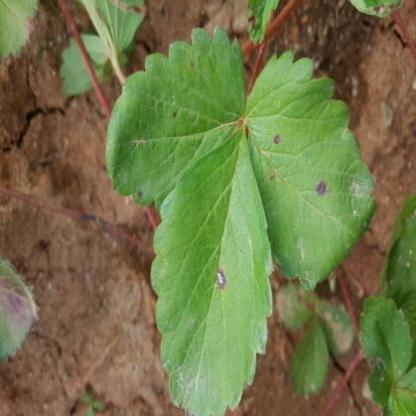Strawberry_Leaf_Spot: (150, 122, 275, 416), (244, 49, 378, 292), (105, 23, 246, 210), (275, 280, 320, 332)
